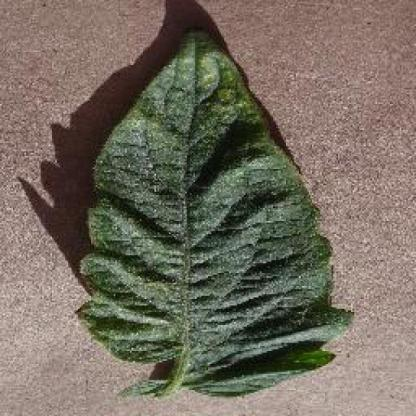Tomato_Spider_Mites: (78, 29, 353, 394)
